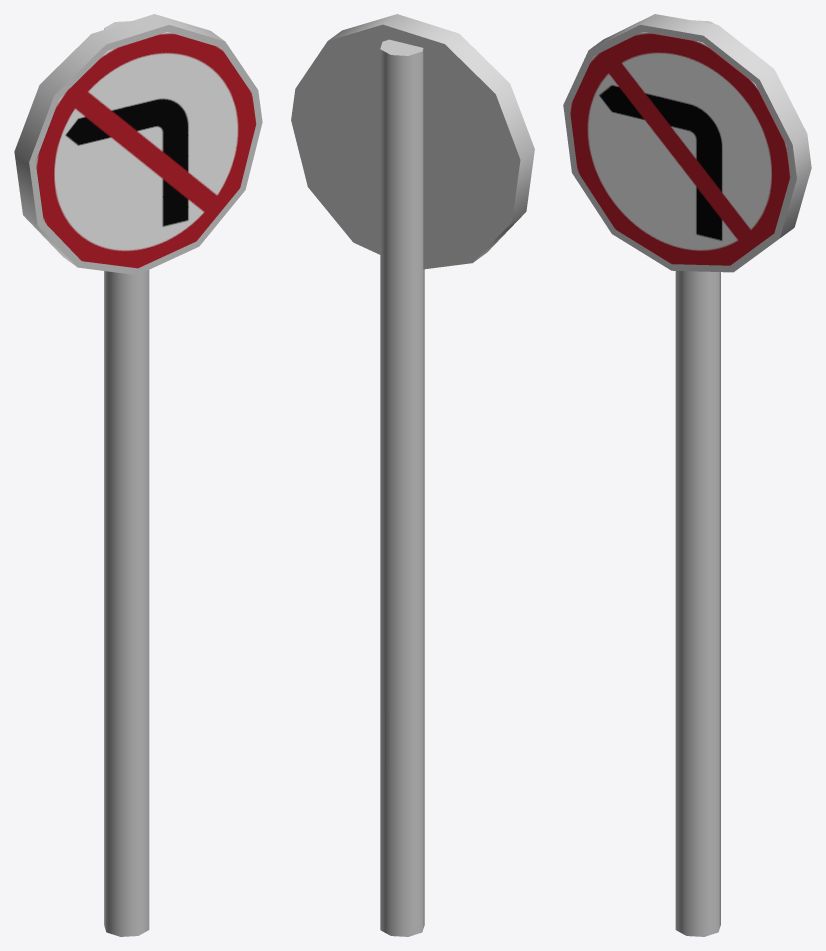
File: NLEFTURN.fbx
3 views of the same model, side by side, from view 1: azimuth 30°, elevation 25°; view 2: azimuth 150°, elevation 25°; view 3: azimuth 330°, elevation 25° (orthographic).
Visible parts, largest first — view 1: pasted__pasted__pasted__pasted__pasted__pasted__pasted__past; view 2: pasted__pasted__pasted__pasted__pasted__pasted__pasted__past; view 3: pasted__pasted__pasted__pasted__pasted__pasted__pasted__past.
Boxes of the visible parts, x1=… form: pasted__pasted__pasted__pasted__pasted__pasted__pasted__past: x1=14, y1=14, x2=262, y2=936; pasted__pasted__pasted__pasted__pasted__pasted__pasted__past: x1=291, y1=14, x2=534, y2=936; pasted__pasted__pasted__pasted__pasted__pasted__pasted__past: x1=563, y1=14, x2=811, y2=936.
Size of the model in its own units: 1.02 by 3.81 by 0.2327.
Materials: 2 (1 with a texture image).
